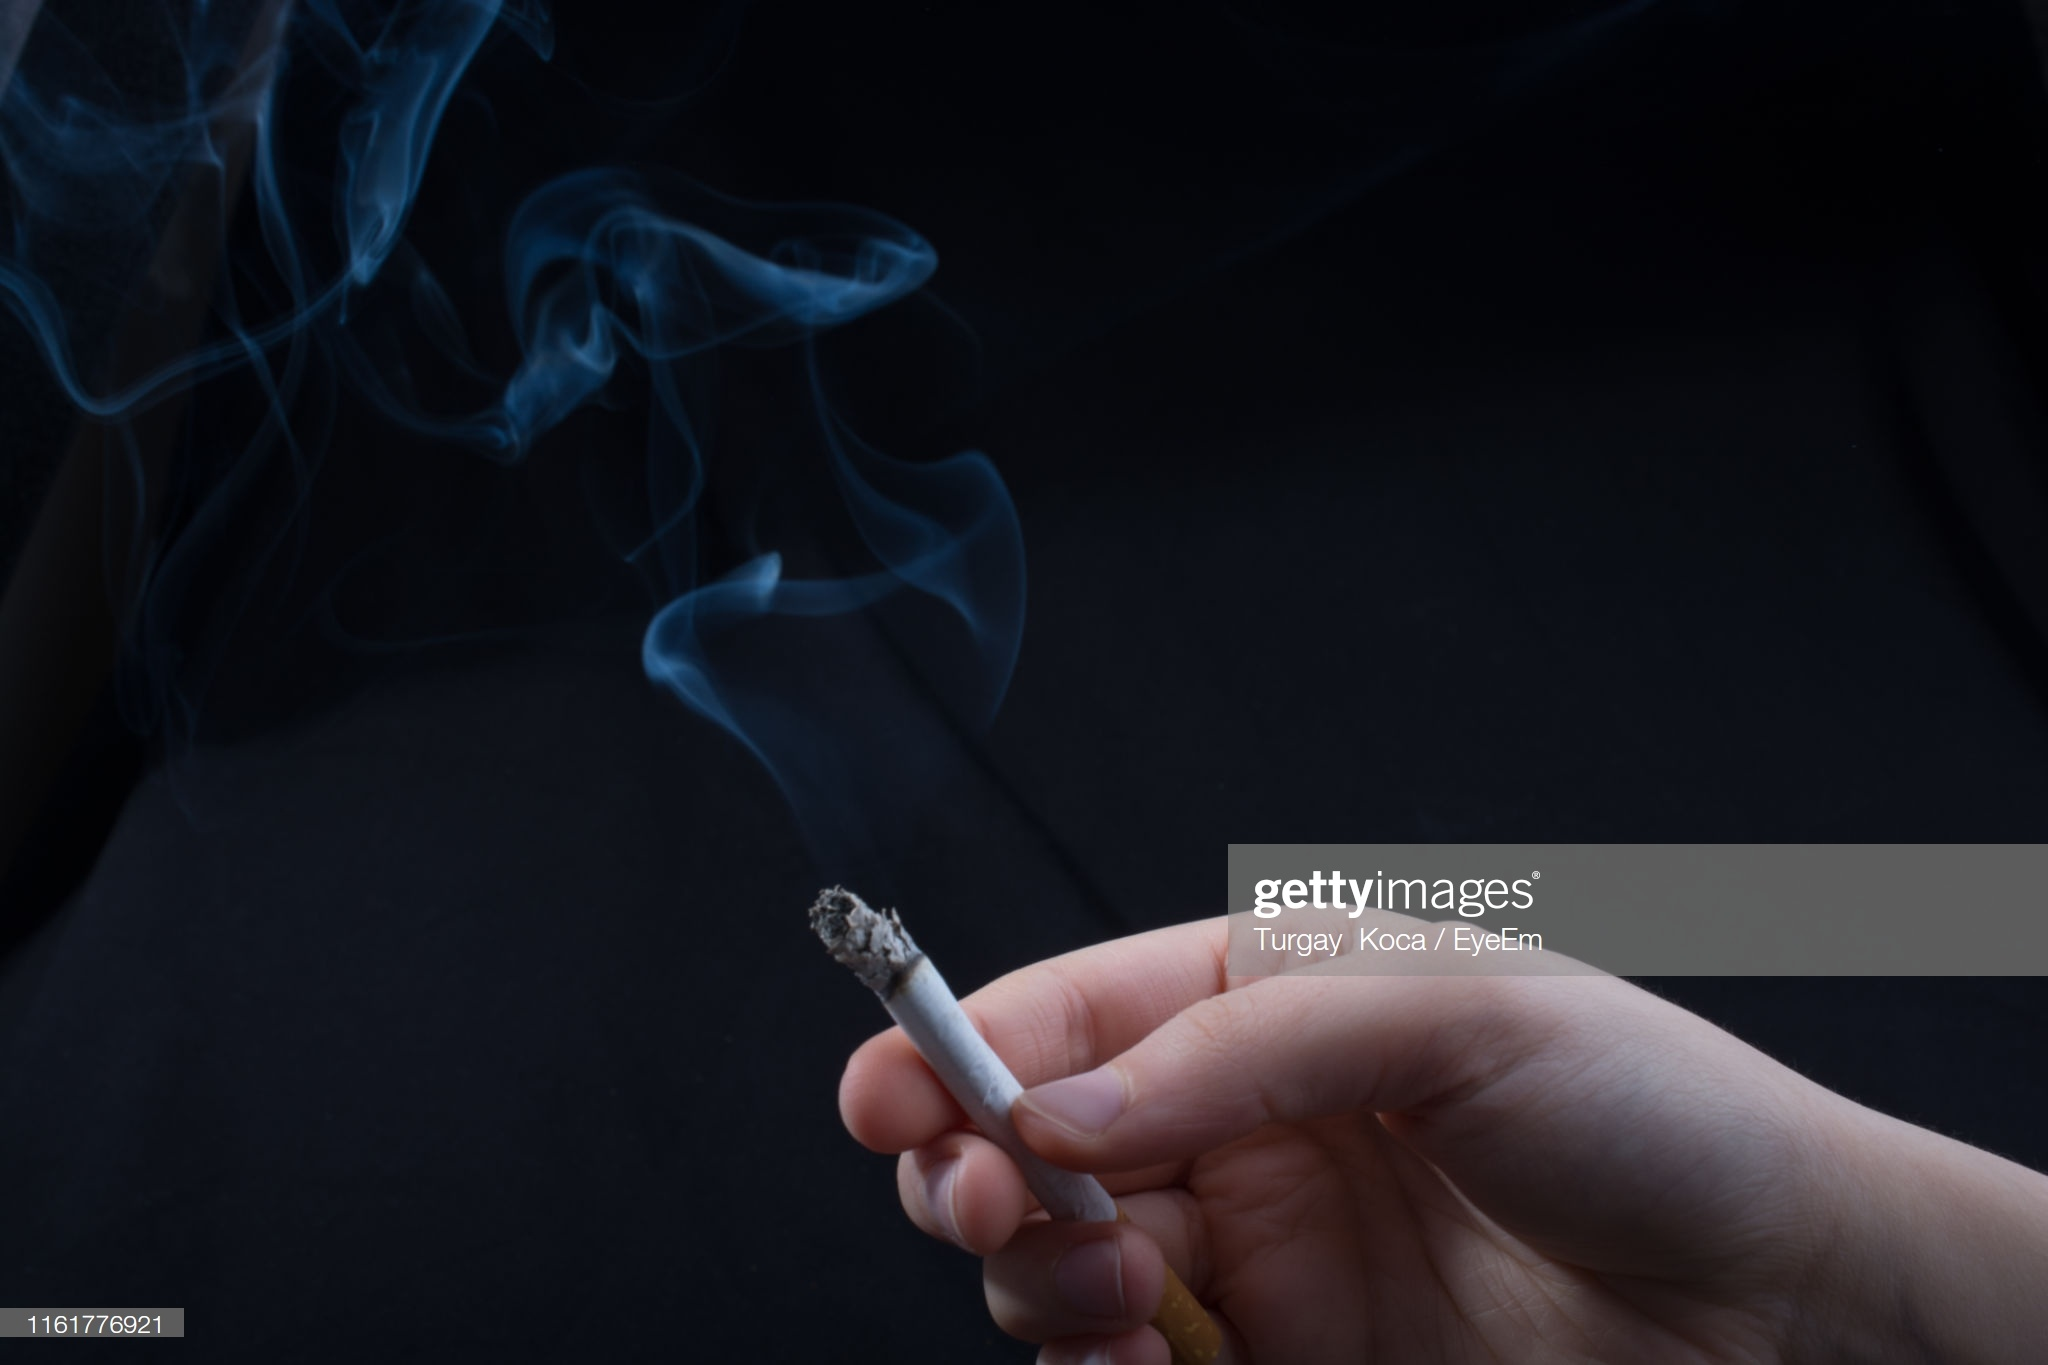sigaretta: (813, 881, 1191, 1331)
